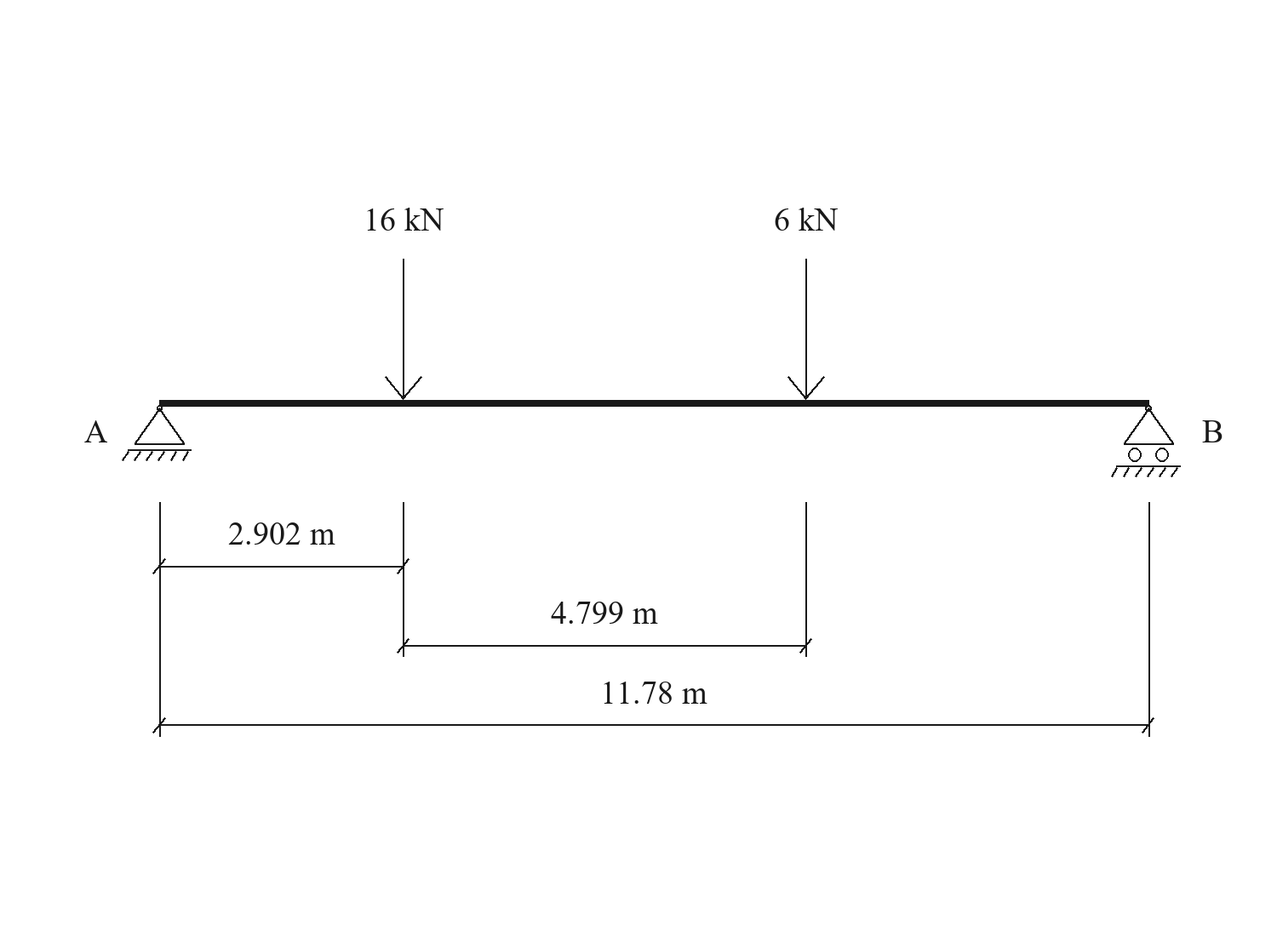pin_support: (122, 405, 192, 461)
point_load: (787, 259, 825, 400), (385, 259, 422, 400)
roller_support: (1111, 405, 1181, 477)
